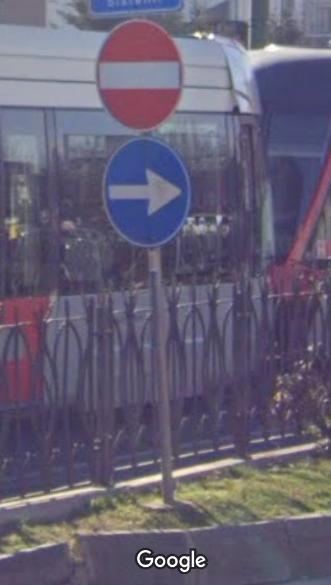turnright: (107, 139, 193, 245)
